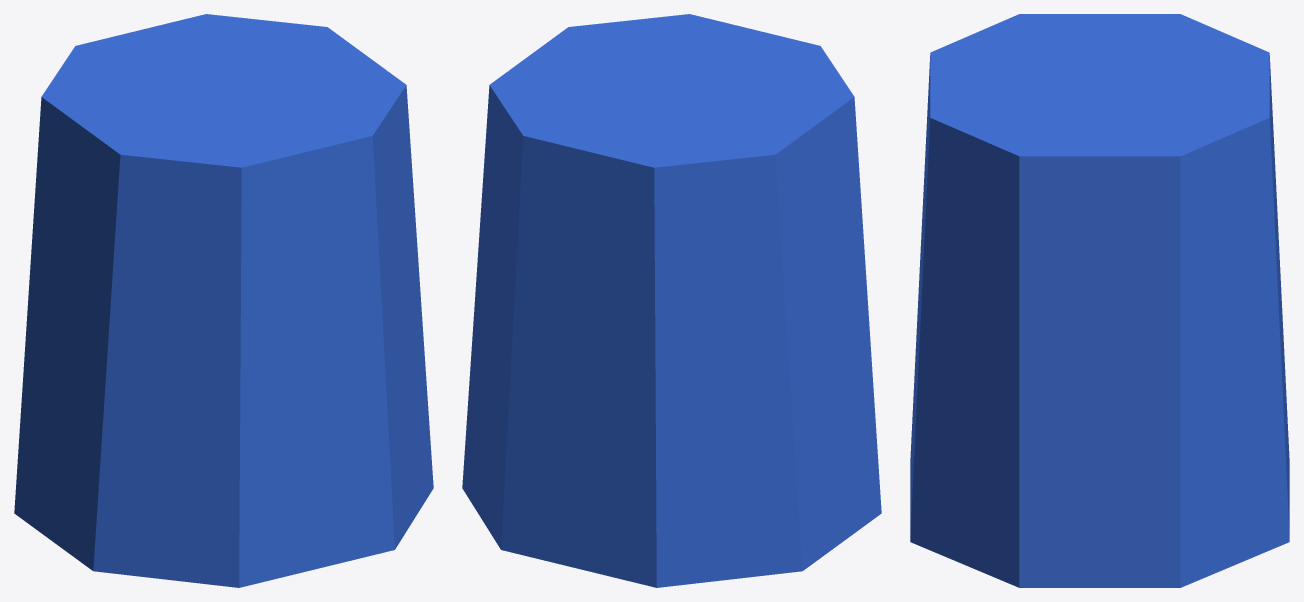
File: Collision_Stool.fbx
The picture shows the model from 3 angles, left to right: view 1: azimuth 30°, elevation 25°; view 2: azimuth 150°, elevation 25°; view 3: azimuth 270°, elevation 25°; orthographic projection.
Visible parts, largest first — view 1: UCX_Stool_1; view 2: UCX_Stool_1; view 3: UCX_Stool_1.
Part boxes in pixels (bbox=[...]): UCX_Stool_1: bbox=[14, 14, 433, 587]; UCX_Stool_1: bbox=[462, 14, 881, 587]; UCX_Stool_1: bbox=[910, 14, 1289, 587].
Bounding box in the file's own units: 50.21 × 57.78 × 47.55.
